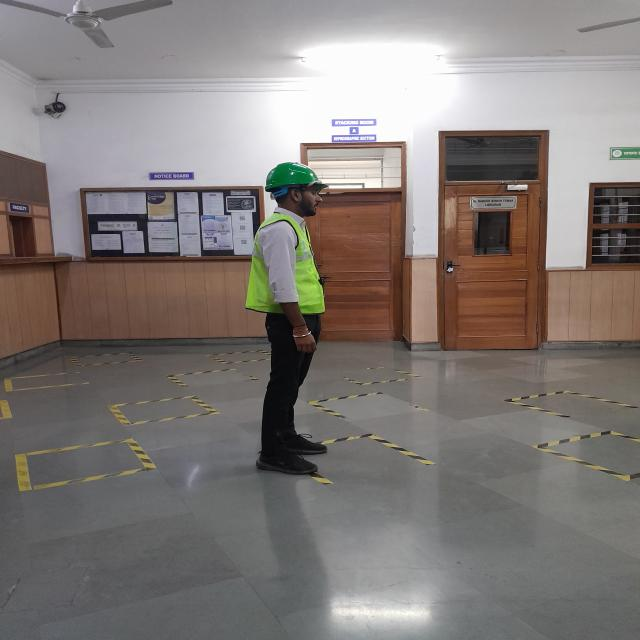safe: (246, 162, 328, 473)
